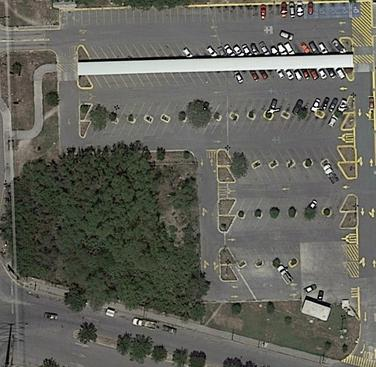parkingspot: (58, 1, 362, 28), (81, 37, 350, 63), (86, 66, 352, 90), (203, 113, 349, 135), (214, 95, 351, 118), (228, 193, 350, 217), (226, 161, 349, 184), (226, 212, 347, 235), (225, 146, 345, 169), (227, 244, 350, 266), (229, 261, 351, 283), (84, 101, 188, 122), (84, 118, 186, 139)
